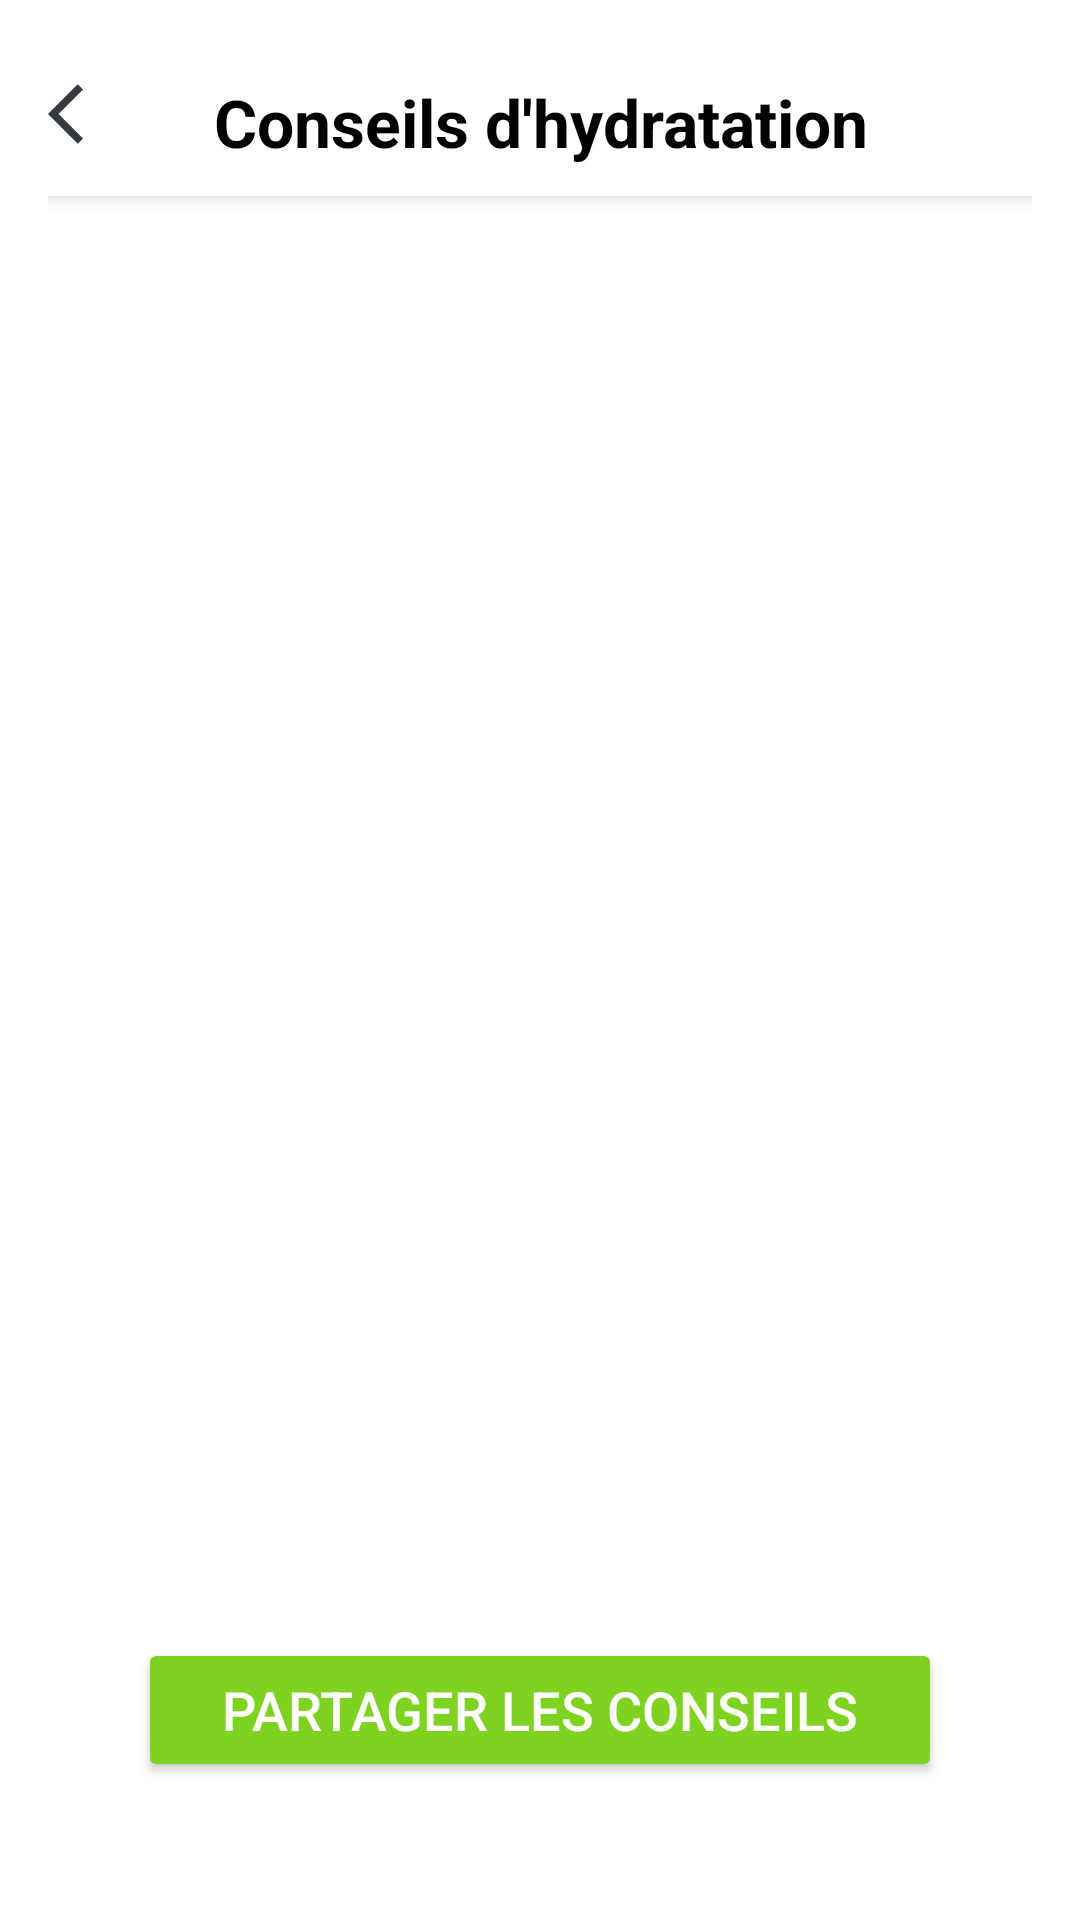

Point at icon controls on the screen. Image size 1080×1920, points as (x,y).
Retour: (65,114)
